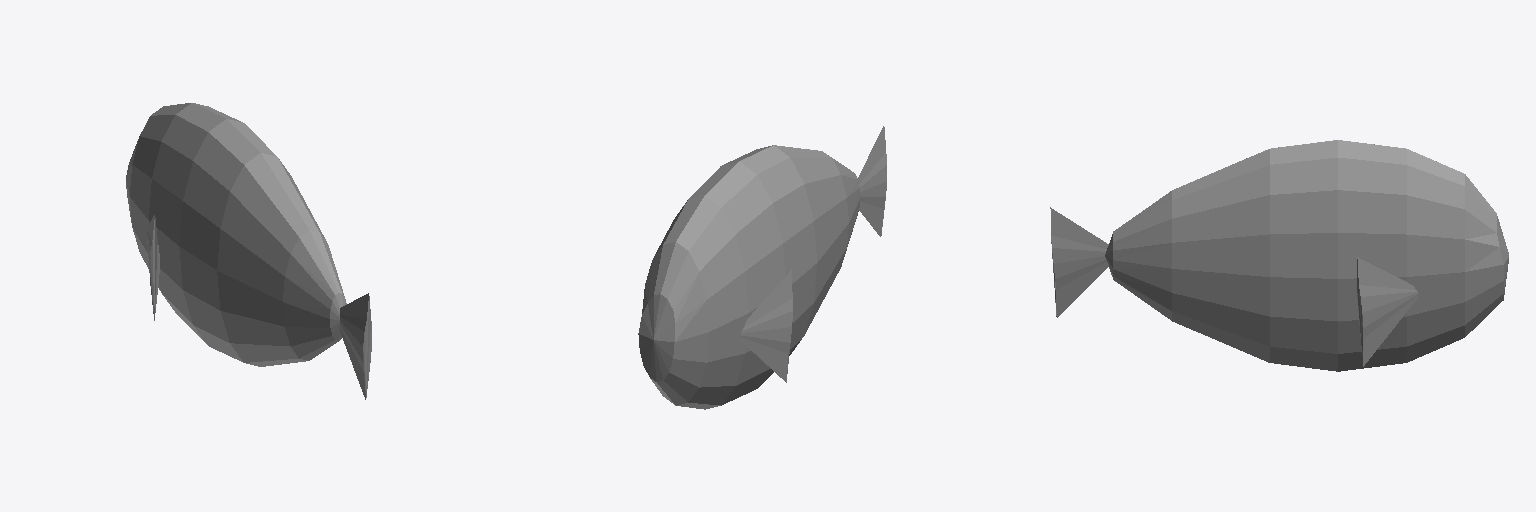
The model's file is dori.obj.
The picture shows the model from 3 angles: view 1: azimuth 30°, elevation 25°; view 2: azimuth 150°, elevation 25°; view 3: azimuth 270°, elevation 25°; orthographic projection.
Parts seen in each view (by area): view 1: Sphere; view 2: Sphere; view 3: Sphere.
Part boxes in pixels (bbox=[...]): Sphere: bbox=[126, 103, 371, 399]; Sphere: bbox=[638, 126, 886, 409]; Sphere: bbox=[1050, 140, 1508, 371].
Size of the model in its own units: 1.18 by 2 by 3.59.